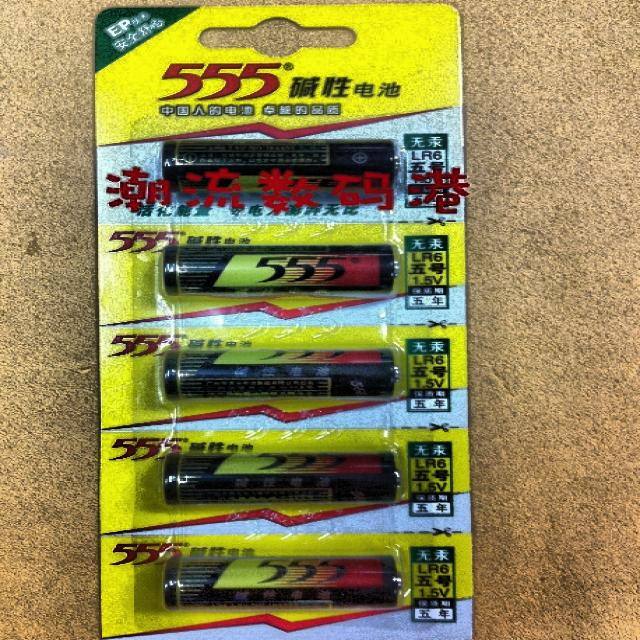Non-Valuable Waste - Batteries: (164, 555, 401, 609), (164, 453, 399, 505), (164, 349, 399, 399), (164, 245, 396, 295)
